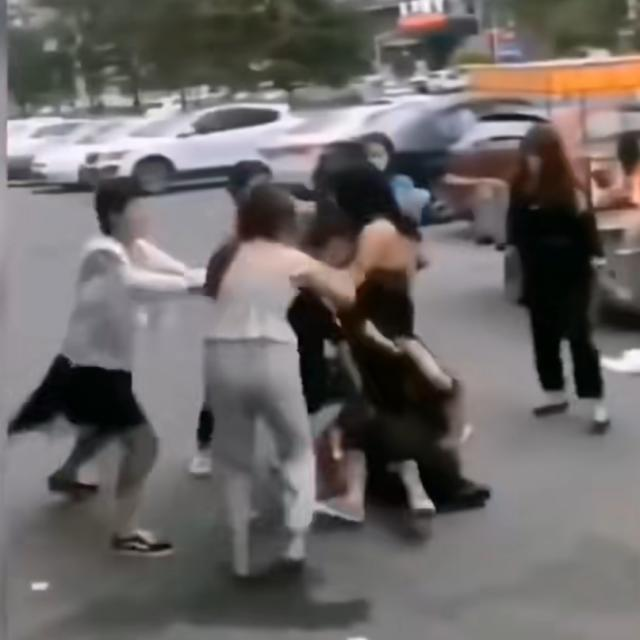fight: (190, 155, 425, 355)
nofight: (46, 174, 216, 572), (492, 125, 627, 450)
